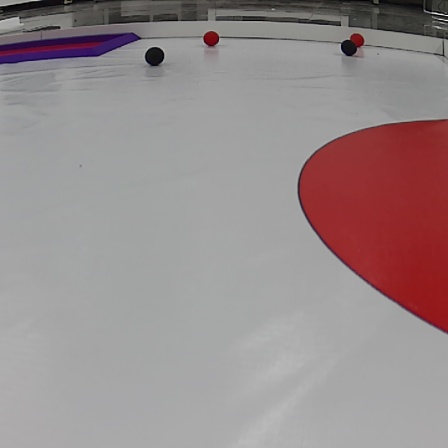black: (144, 45, 164, 66), (338, 39, 359, 56)
red: (203, 30, 218, 47), (350, 32, 366, 47)
red_aim: (1, 31, 141, 63)
red_base: (290, 113, 448, 337)
